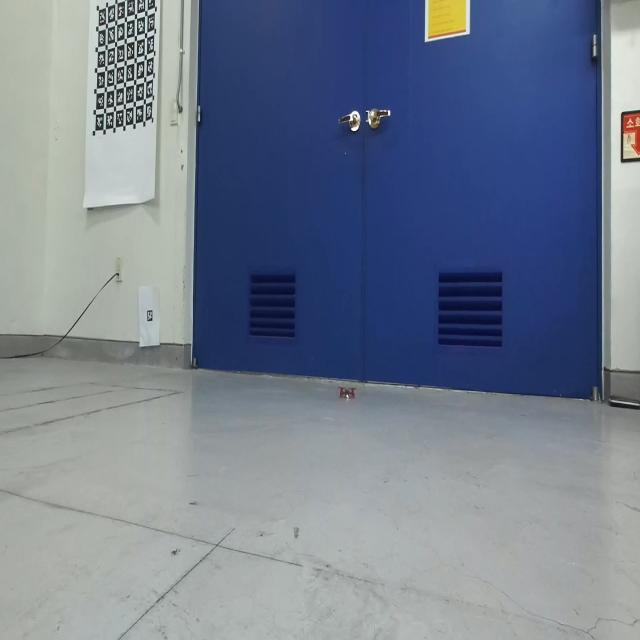crazyflie: (337, 383, 358, 402)
